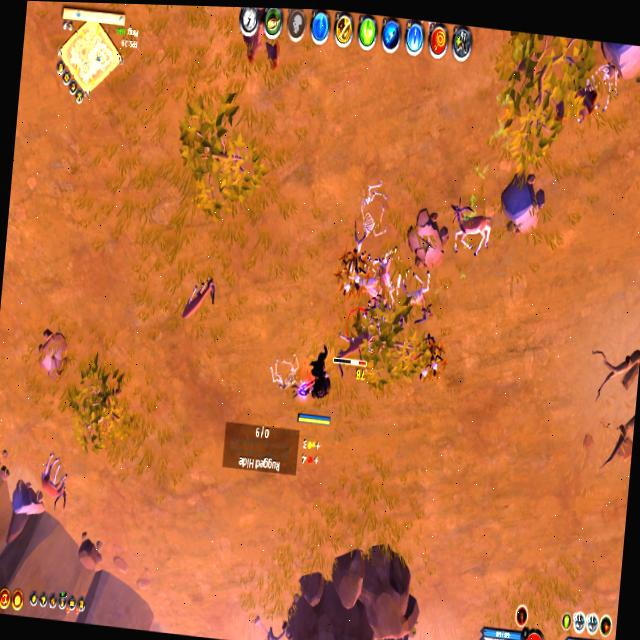hide: (333, 244, 372, 297), (416, 342, 448, 388)
mob: (446, 198, 496, 266), (362, 241, 401, 315), (396, 268, 436, 324)
ore: (332, 304, 380, 377), (177, 268, 218, 332), (38, 451, 72, 515)
red: (296, 341, 338, 430)
